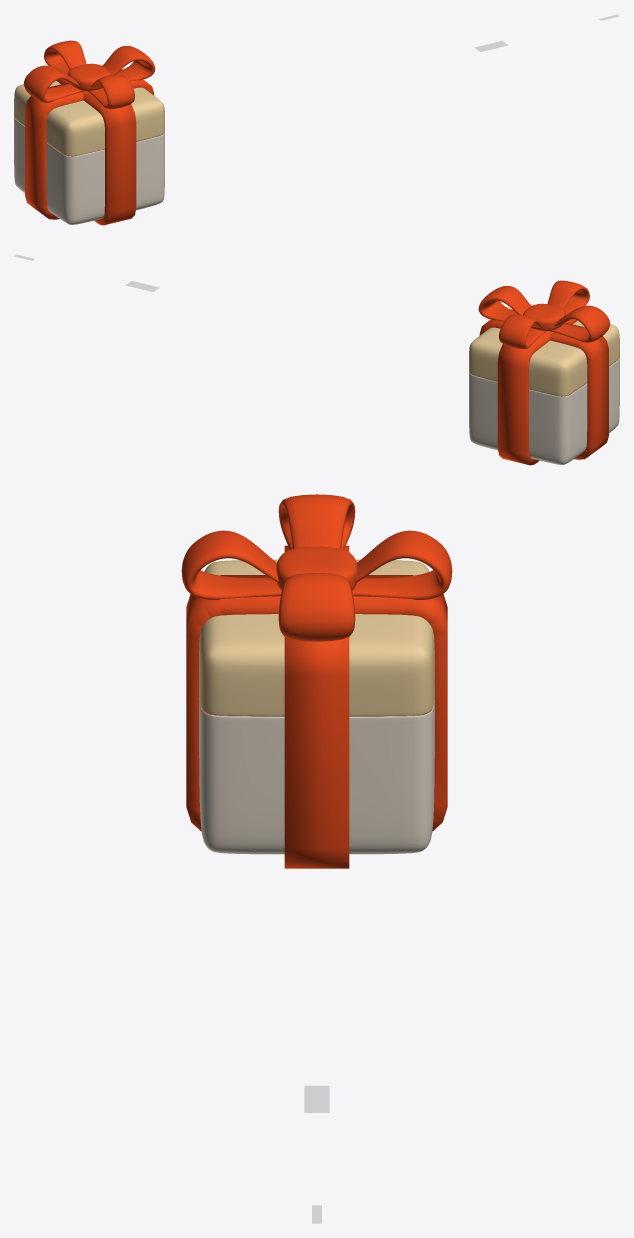
File: GiftBox.fbx
3 views of the same model, one above another, from view 1: azimuth 30°, elevation 25°; view 2: azimuth 150°, elevation 25°; view 3: azimuth 270°, elevation 25° (orthographic). The views are drawn at different scales.
Parts seen in each view (by area): view 1: Cube.004, Cube, Cube.001, Cube.002, NurbsPath, NurbsPath.001, Cube.003; view 2: Cube.004, Cube, Cube.001, Cube.002, NurbsPath, NurbsPath.001, Cube.003; view 3: Cube.004, Cube, Cube.002, Cube.001, NurbsPath.001, NurbsPath, Cube.003.
Part boxes in pixels (x1=…): Cube.004: x1=14, y1=117, x2=164, y2=224; Cube: x1=14, y1=64, x2=164, y2=156; Cube.001: x1=53, y1=79, x2=136, y2=225; Cube.002: x1=25, y1=69, x2=154, y2=219; NurbsPath: x1=24, y1=46, x2=155, y2=102; NurbsPath.001: x1=44, y1=40, x2=134, y2=109; Cube.003: x1=68, y1=63, x2=110, y2=90; Cube.004: x1=469, y1=357, x2=619, y2=464; Cube: x1=469, y1=304, x2=619, y2=396; Cube.001: x1=497, y1=319, x2=580, y2=465; Cube.002: x1=479, y1=309, x2=608, y2=459; NurbsPath: x1=478, y1=286, x2=609, y2=342; NurbsPath.001: x1=499, y1=280, x2=589, y2=349; Cube.003: x1=523, y1=303, x2=565, y2=330; Cube.004: x1=199, y1=686, x2=434, y2=854; Cube: x1=199, y1=559, x2=434, y2=716; Cube.002: x1=284, y1=545, x2=349, y2=868; Cube.001: x1=186, y1=575, x2=447, y2=831; NurbsPath.001: x1=181, y1=530, x2=452, y2=599; NurbsPath: x1=278, y1=494, x2=355, y2=641; Cube.003: x1=276, y1=546, x2=357, y2=590.
Size of the model in its own units: 1151 by 269 by 229.
